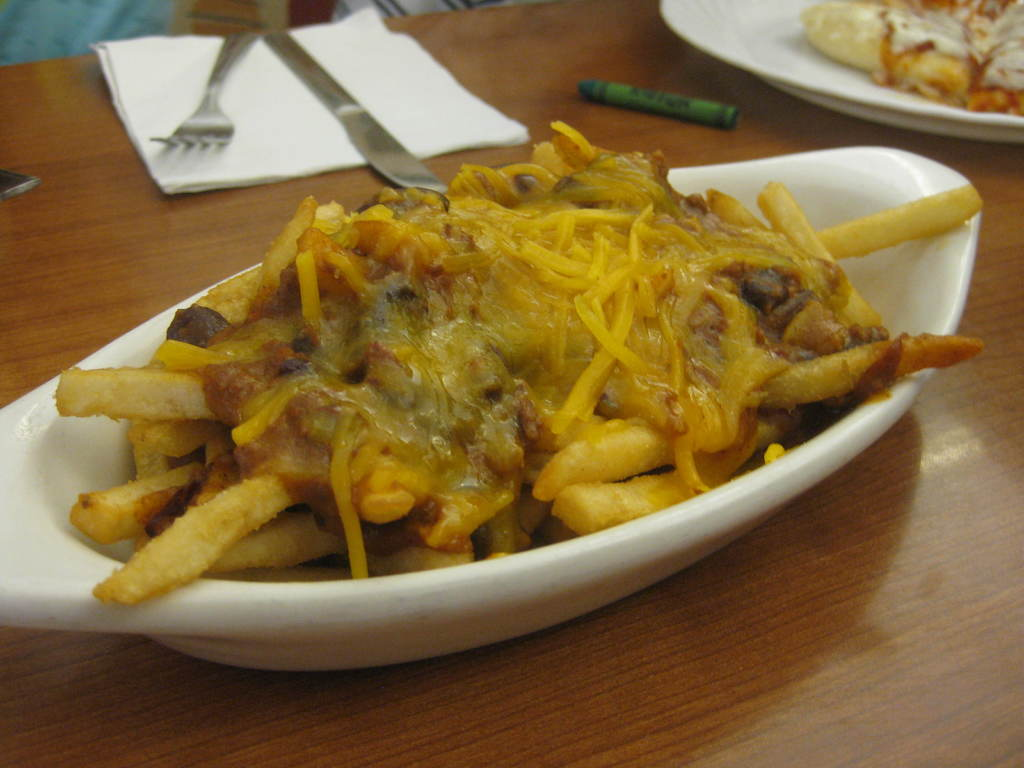French fries: (94, 485, 299, 609), (763, 324, 1000, 421), (556, 442, 760, 540), (758, 174, 869, 321), (60, 458, 216, 543), (815, 179, 983, 250), (530, 433, 697, 501), (49, 362, 241, 419), (210, 491, 345, 566), (369, 531, 480, 579), (707, 174, 763, 258)
